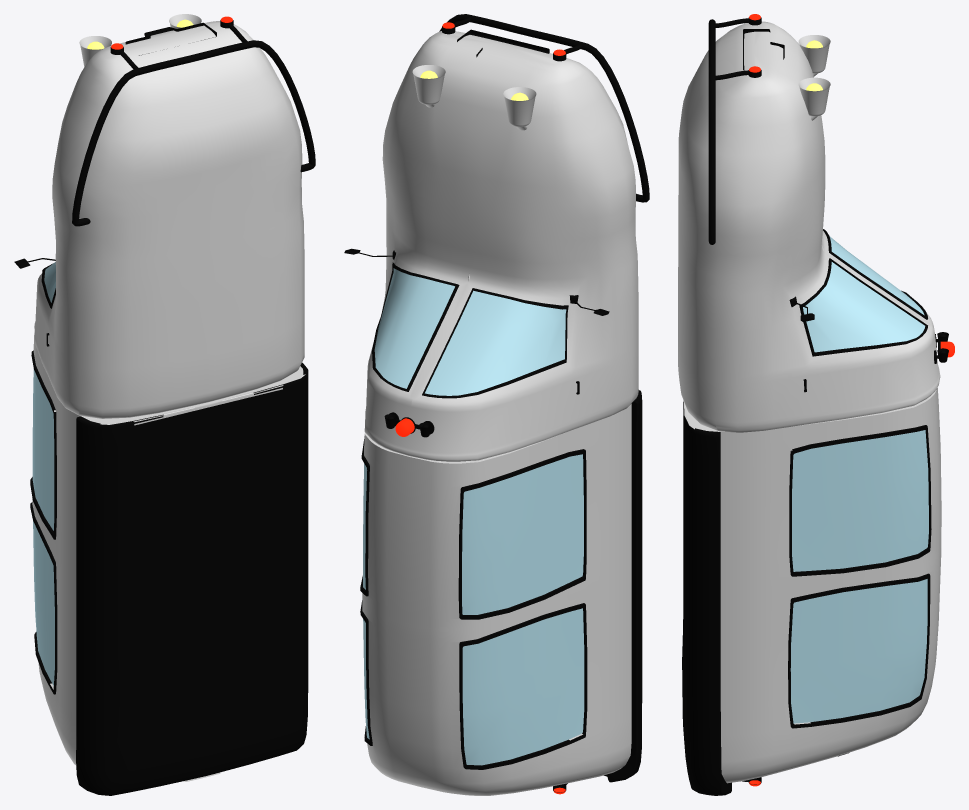
File: GAMEJAM_2020_Ambulance.fbx
3 views of the same model, side by side, from view 1: azimuth 30°, elevation 25°; view 2: azimuth 150°, elevation 25°; view 3: azimuth 270°, elevation 25° (orthographic). The views are drawn at different scales.
Visible parts, largest first — view 1: Cube.001; view 2: Cube.001; view 3: Cube.001.
Part boxes in pixels (x1=…): Cube.001: x1=14, y1=14, x2=315, y2=795; Cube.001: x1=344, y1=14, x2=649, y2=795; Cube.001: x1=678, y1=14, x2=954, y2=795.
Size of the model in its own units: 248 by 679 by 238.
